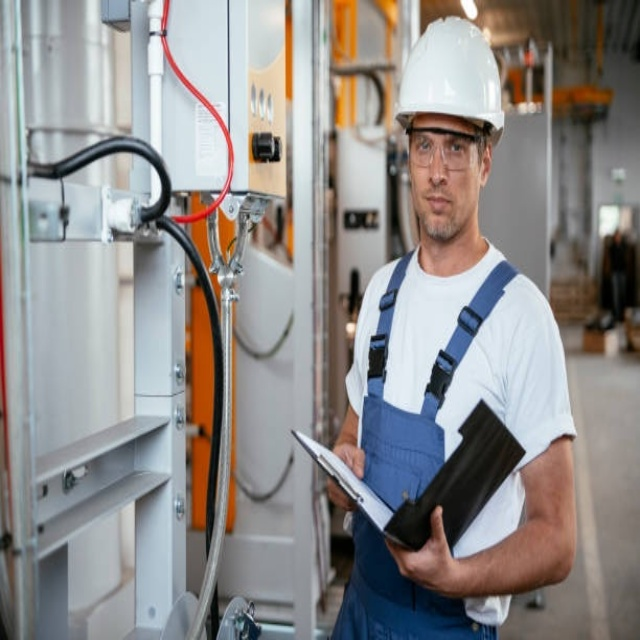Gafas: (406, 132, 483, 171)
Sin_guantes: (382, 505, 453, 595), (326, 439, 366, 515)
Sin_mascara: (419, 187, 457, 240)
